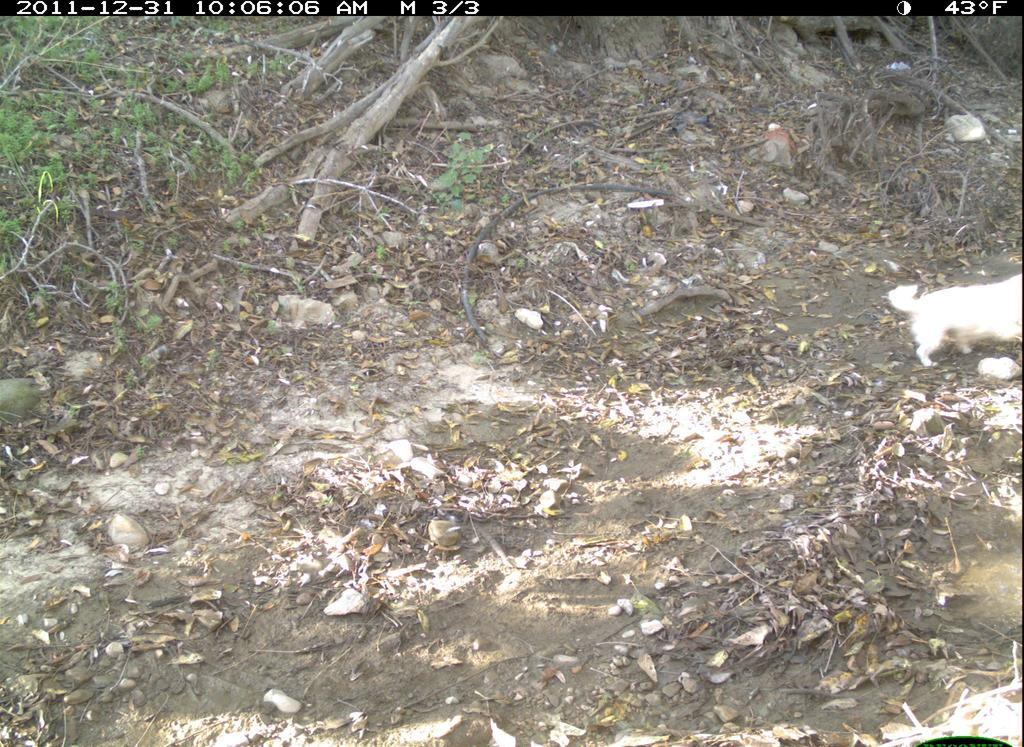dog: (876, 250, 1023, 382)
